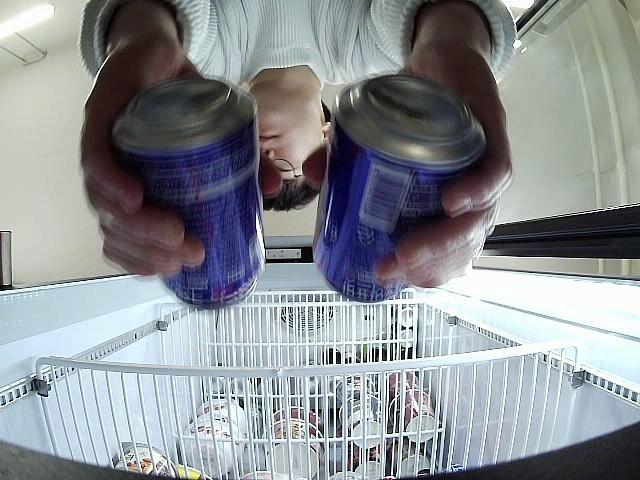14_welchsGrape: (314, 74, 486, 303), (110, 78, 265, 308)
